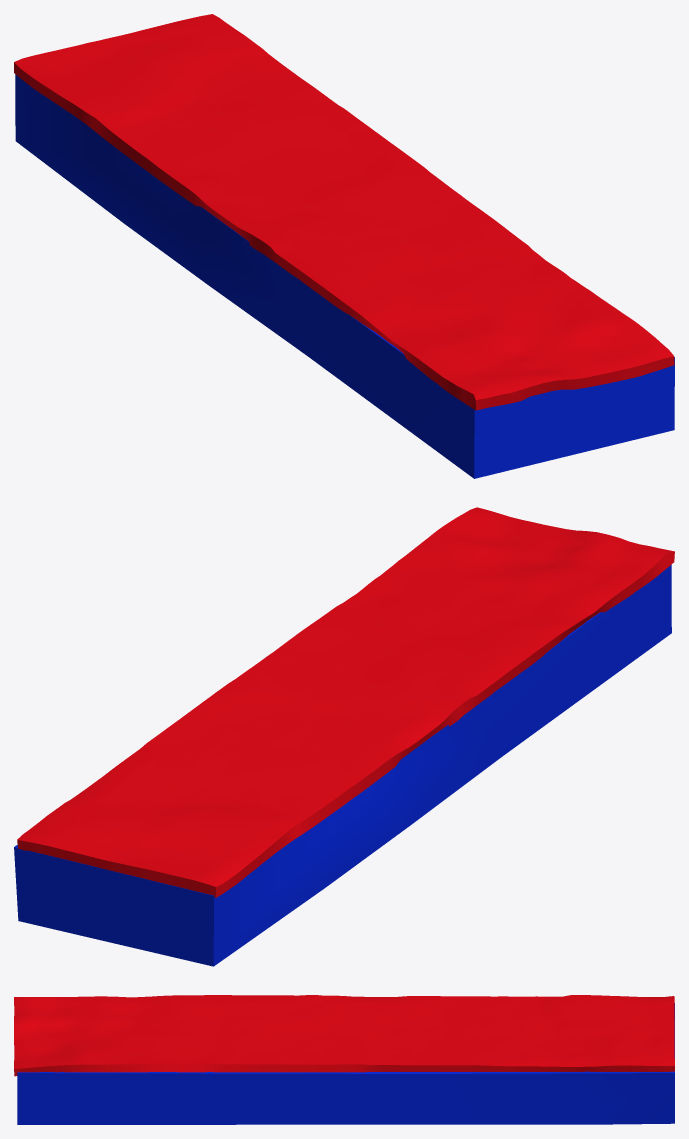
The model's file is BP_ConcreteFloor_1.fbx.
The picture shows the model from 3 angles, top to bottom: view 1: azimuth 30°, elevation 25°; view 2: azimuth 150°, elevation 25°; view 3: azimuth 270°, elevation 25°; orthographic projection. The views are drawn at different scales.
Visible parts, largest first — view 1: BP_ConcreteFloor_1; view 2: BP_ConcreteFloor_1; view 3: BP_ConcreteFloor_1.
Part boxes in pixels (left/top/right/bottom): BP_ConcreteFloor_1: left=14, top=14, right=674, bottom=478; BP_ConcreteFloor_1: left=14, top=507, right=674, bottom=966; BP_ConcreteFloor_1: left=14, top=995, right=674, bottom=1124.
Size of the model in its own units: 505 by 201 by 1993.
